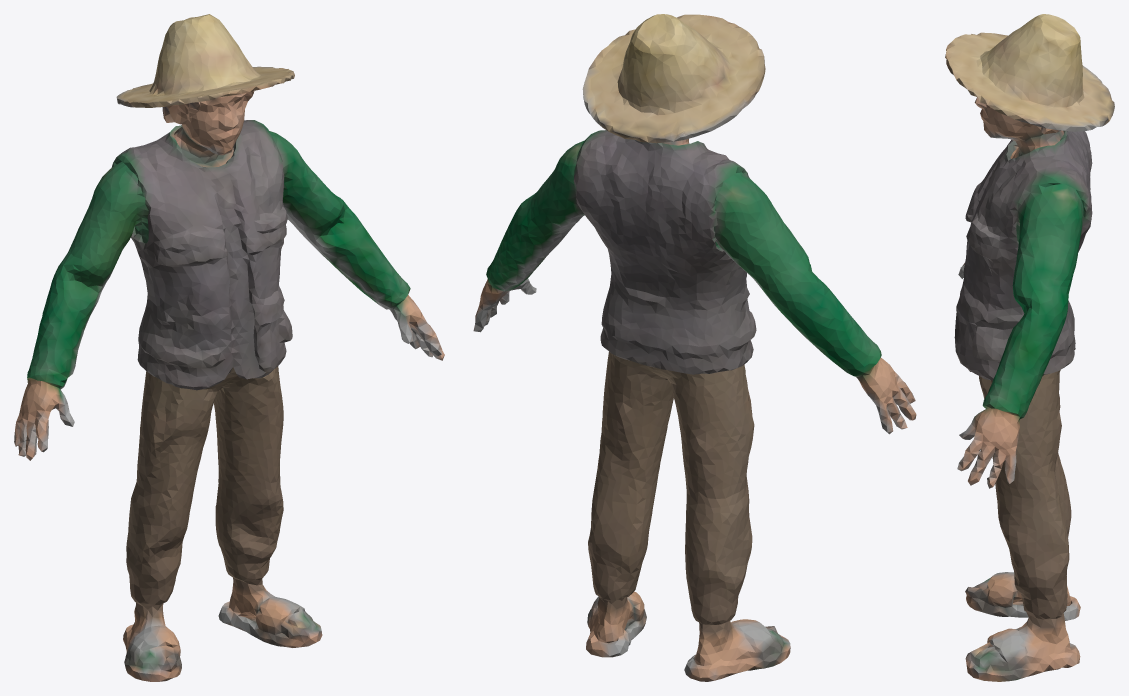
3 views of the same model, side by side, from view 1: azimuth 30°, elevation 25°; view 2: azimuth 150°, elevation 25°; view 3: azimuth 270°, elevation 25° (orthographic). The views are drawn at different scales.
Visible parts, largest first — view 1: geometry_0; view 2: geometry_0; view 3: geometry_0.
Part boxes in pixels (x1,y1,x2,y2): geometry_0: (14,14,444,681); geometry_0: (473,14,916,681); geometry_0: (945,14,1114,681).
Bounding box in the file's own units: 0.7002 × 1 × 0.2474.
